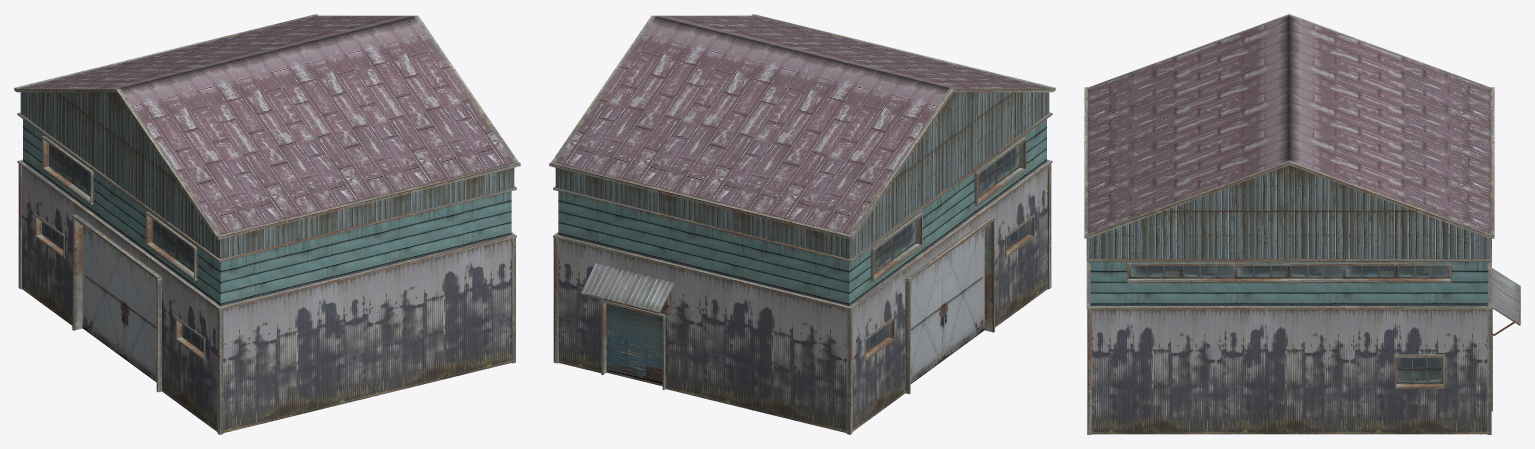
File: Hangar_v3_basic.glb
3 views of the same model, side by side, from view 1: azimuth 30°, elevation 25°; view 2: azimuth 150°, elevation 25°; view 3: azimuth 270°, elevation 25° (orthographic).
Parts seen in each view (by area): view 1: Hangar_v3_basic; view 2: Hangar_v3_basic; view 3: Hangar_v3_basic.
Boxes of the visible parts, <box> form: Hangar_v3_basic: <box>14,14,520,434</box>; Hangar_v3_basic: <box>549,14,1055,434</box>; Hangar_v3_basic: <box>1084,14,1520,434</box>.
Bounding box in the file's own units: 10.86 × 9.36 × 13.5.
Materials: 1 (1 with a texture image).
